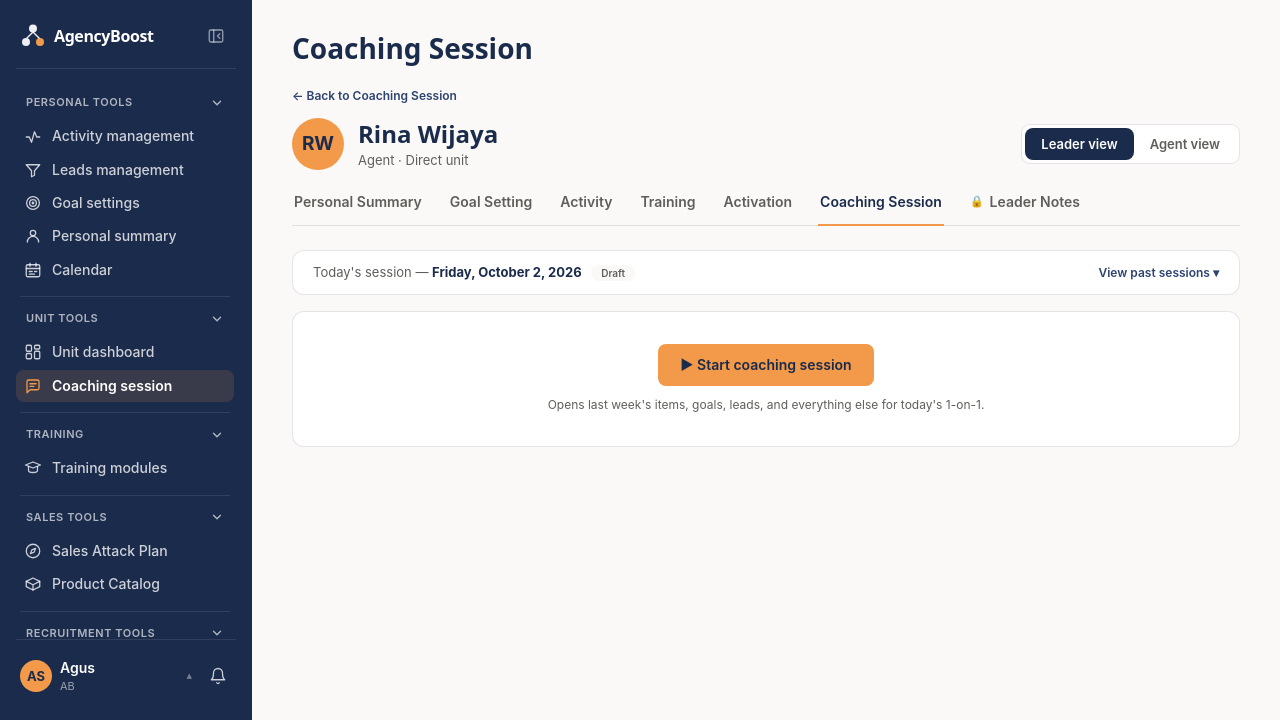
Test case: the session workspace (P11-T8) › the header and the start › P11-T8 AC-2 shows a refused start where the button is
Click the button "▶ Start coaching session": (766, 365) [658, 344, 874, 386]
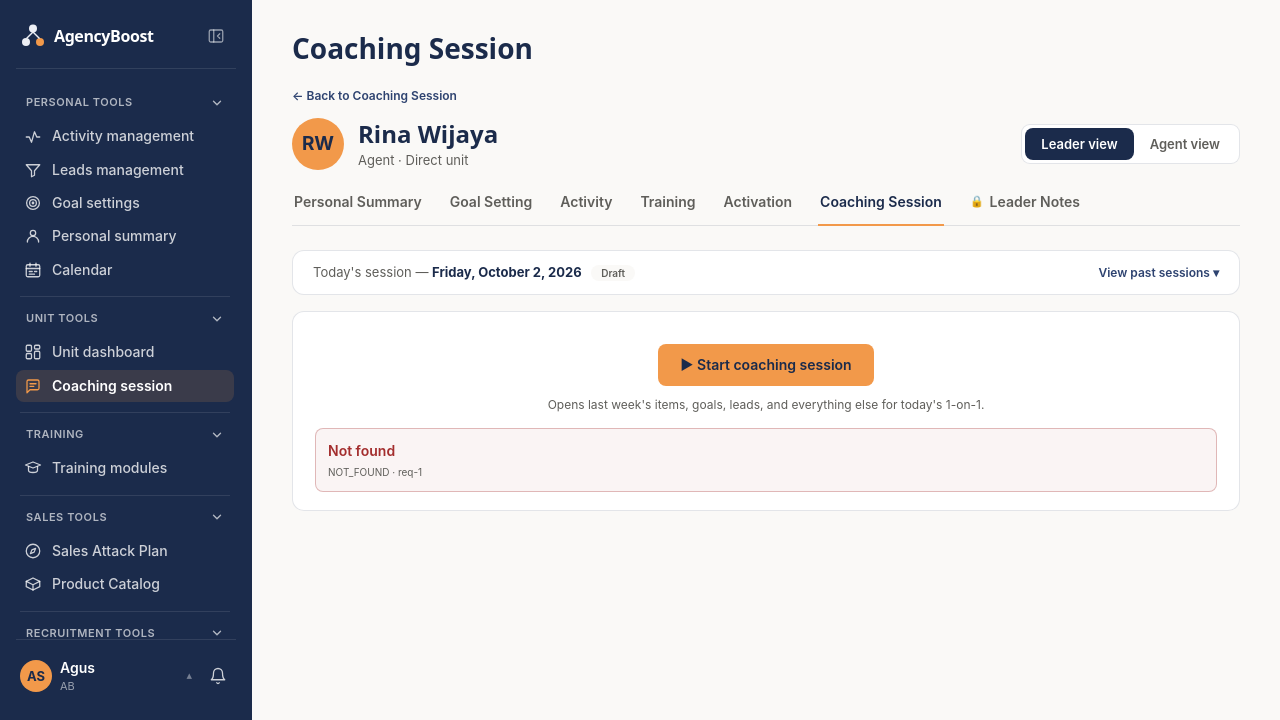
Check: the message shows "Not found", box [328, 442, 395, 459]
